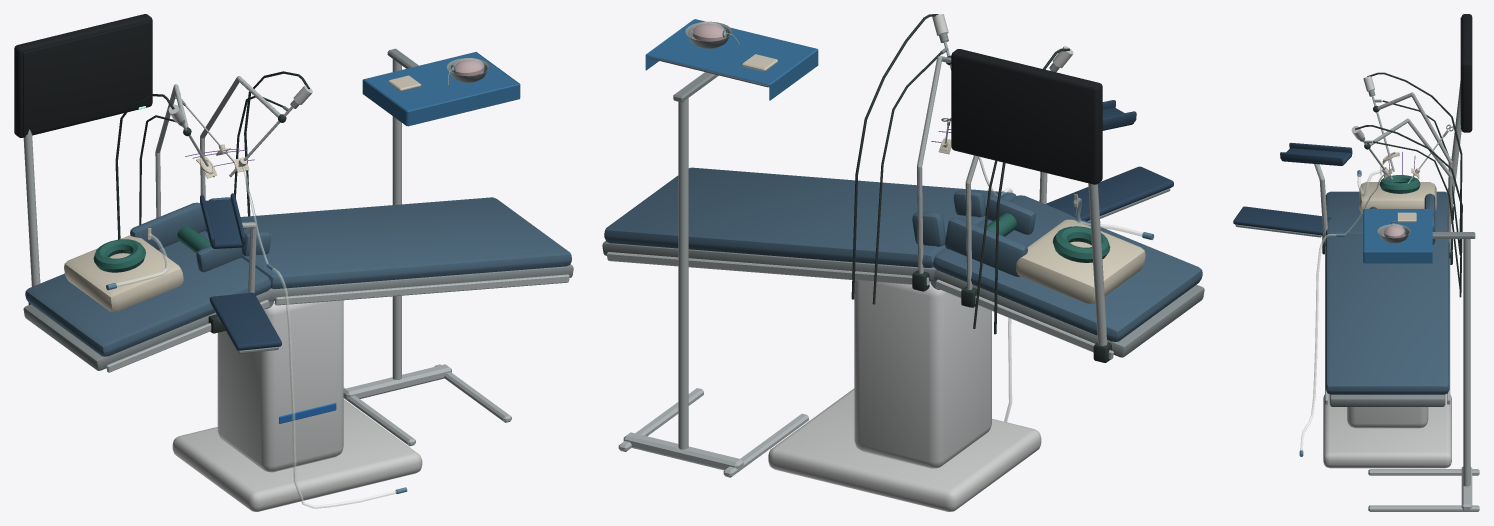
File: sc-vats-trainer.glb
The picture shows the model from 3 angles, left to right: view 1: azimuth 30°, elevation 25°; view 2: azimuth 150°, elevation 25°; view 3: azimuth 270°, elevation 25°; orthographic projection. The views are drawn at different scales.
Parts seen in each view (by area): view 1: sc-vats-trainer, layer:mayo, layer:scope, layer:scope-utility, layer:chest-tube; view 2: sc-vats-trainer, layer:mayo, layer:scope, layer:scope-utility; view 3: sc-vats-trainer, layer:mayo, layer:scope, layer:scope-utility, layer:chest-tube, layer:specimen.
Part boxes in pixels (x1,y1,x2,y2): sc-vats-trainer: (14, 14, 573, 511); layer:mayo: (343, 48, 520, 446); layer:scope: (200, 71, 312, 216); layer:scope-utility: (115, 84, 214, 239); layer:chest-tube: (239, 166, 407, 508); sc-vats-trainer: (602, 49, 1204, 511); layer:mayo: (618, 19, 818, 477); layer:scope: (851, 14, 951, 304); layer:scope-utility: (961, 46, 1073, 334); sc-vats-trainer: (1233, 14, 1472, 468); layer:mayo: (1363, 209, 1479, 511); layer:scope: (1351, 118, 1462, 297); layer:scope-utility: (1363, 72, 1462, 255); layer:chest-tube: (1299, 174, 1392, 456); layer:specimen: (1383, 221, 1405, 238).
Bounding box in the file's own units: 2 × 1.74 × 1.15.
